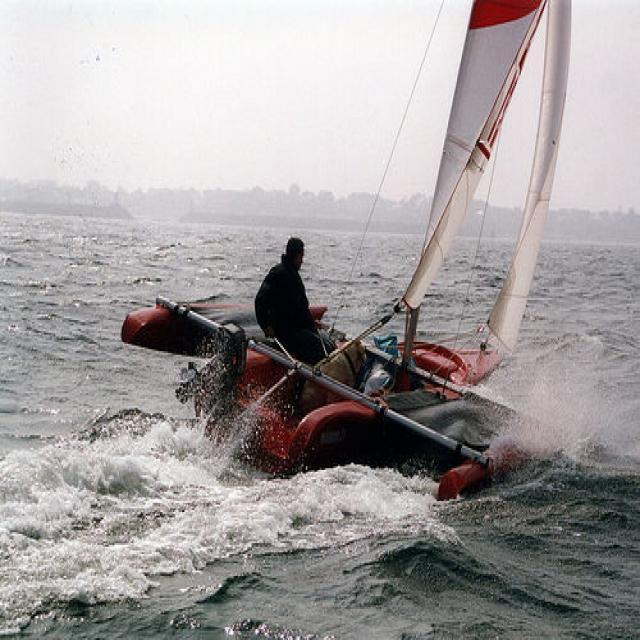Ship: (125, 11, 587, 500)
